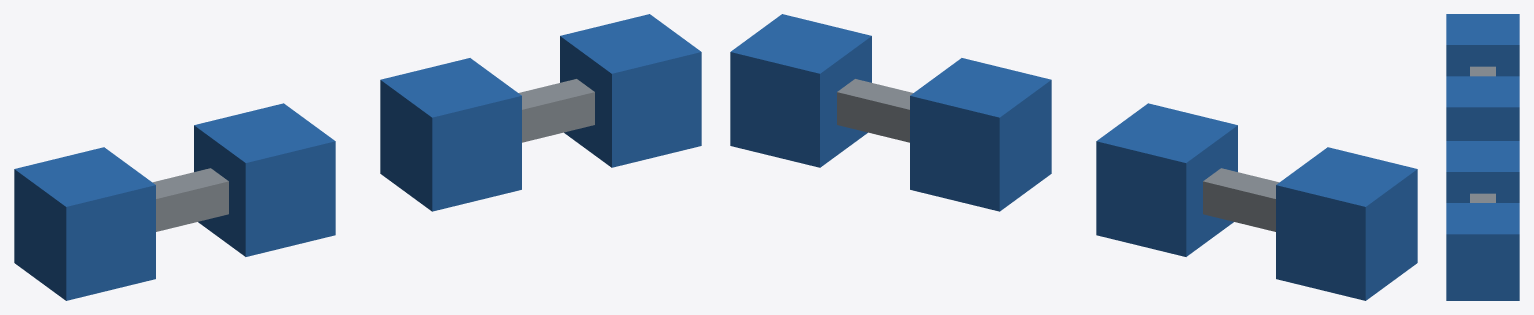
File: Dumbbells.fbx
The picture shows the model from 3 angles, left to right: view 1: azimuth 30°, elevation 25°; view 2: azimuth 150°, elevation 25°; view 3: azimuth 270°, elevation 25°; orthographic projection. The views are drawn at different scales.
Visible parts, largest first — view 1: Dumbbell_1, Dumbbell_2; view 2: Dumbbell_1, Dumbbell_2; view 3: Dumbbell_2, Dumbbell_1.
Boxes of the visible parts, x1,y1,x2,y2 form: Dumbbell_1: (14, 103, 335, 300); Dumbbell_2: (380, 14, 701, 211); Dumbbell_1: (1096, 103, 1417, 300); Dumbbell_2: (730, 14, 1051, 211); Dumbbell_2: (1446, 141, 1519, 300); Dumbbell_1: (1446, 14, 1519, 140).
Bounding box in the file's own units: 1.42 × 0.2 × 0.2.
1 material, 1 textured.
